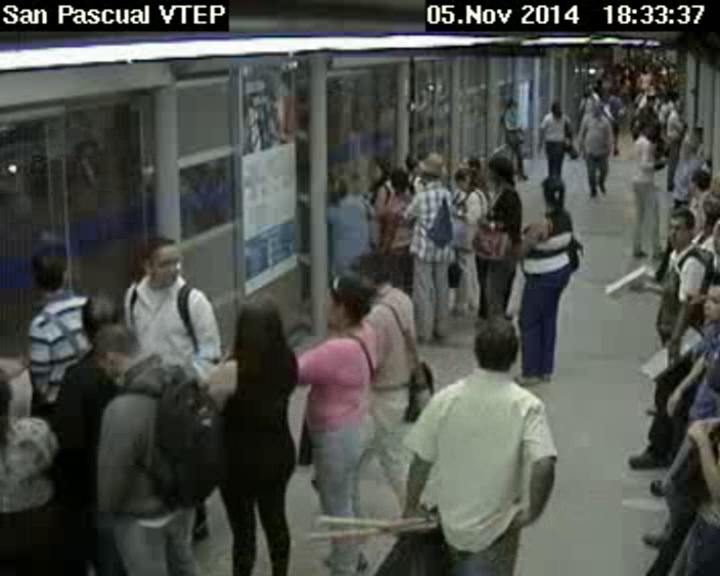person: (311, 276, 380, 345), (460, 313, 524, 372), (87, 324, 153, 374), (234, 290, 285, 354), (134, 231, 184, 291), (79, 292, 125, 354), (339, 247, 397, 295), (29, 243, 72, 296), (696, 267, 720, 322), (666, 208, 696, 251), (538, 172, 567, 208), (321, 172, 357, 200), (490, 152, 515, 189), (420, 150, 447, 183), (367, 151, 391, 187), (687, 166, 711, 199), (455, 165, 483, 190), (682, 135, 699, 160), (637, 118, 656, 137), (672, 96, 686, 118), (502, 97, 520, 112), (590, 101, 604, 119), (549, 102, 566, 116), (641, 94, 656, 107), (611, 84, 619, 95)
